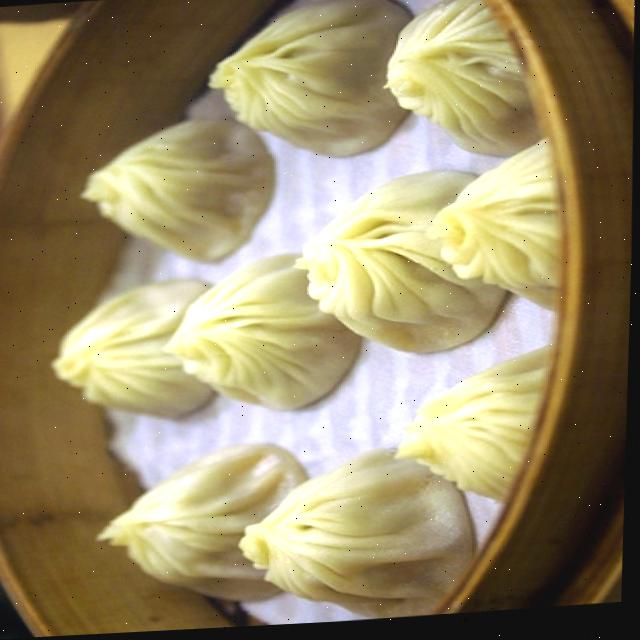带馅早点: (22, 0, 573, 619)
